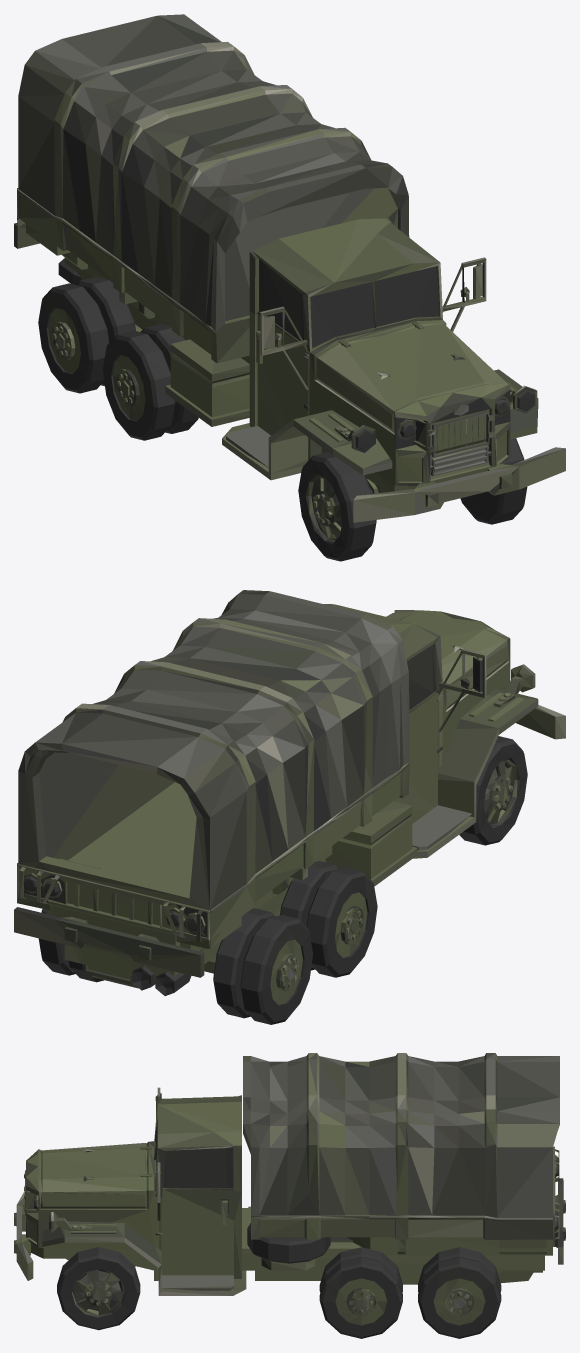
Rendered from merc_hauler_truck.obj.
3 renders of one model, top to bottom at view 1: azimuth 30°, elevation 25°; view 2: azimuth 150°, elevation 25°; view 3: azimuth 270°, elevation 25°, orthographic. The views are drawn at different scales.
Visible parts, largest first — view 1: merc_hauler_truck; view 2: merc_hauler_truck; view 3: merc_hauler_truck.
Part boxes in pixels (<box>): merc_hauler_truck: <box>14,14,565,561</box>; merc_hauler_truck: <box>14,590,565,1024</box>; merc_hauler_truck: <box>14,1053,565,1338</box>.
Bounding box in the file's own units: 3 × 3.61 × 8.17.
1 material, 1 textured.
